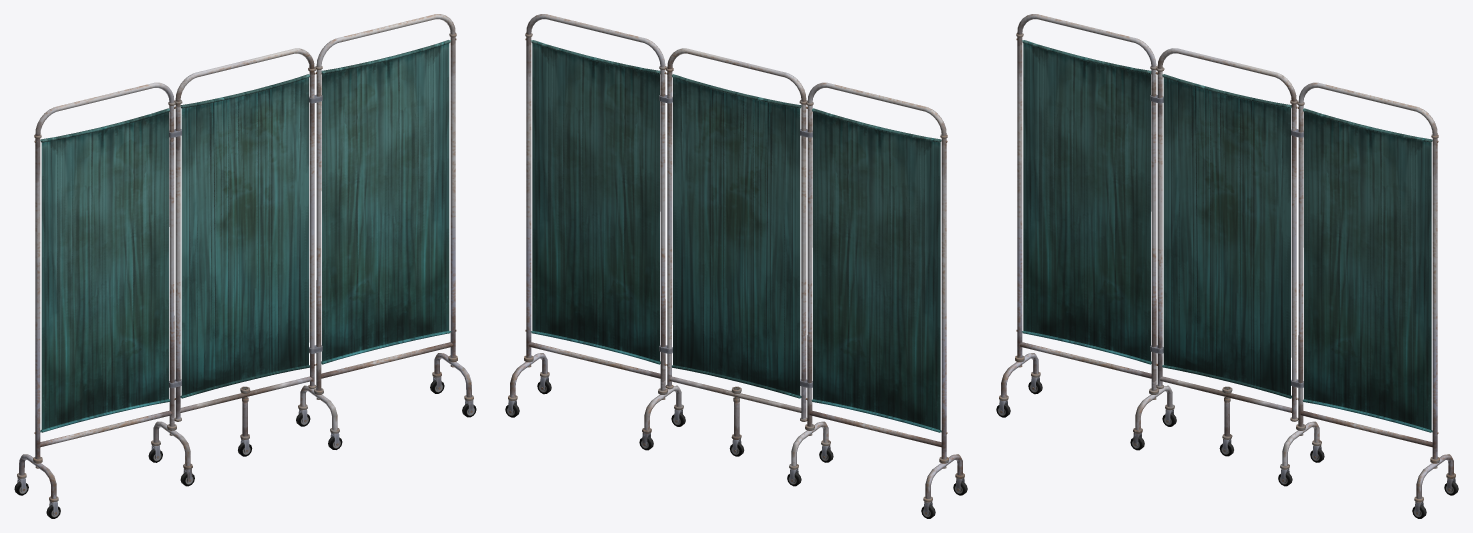
File: HospitalScreen.FBX
3 renders of one model, left to right at view 1: azimuth 30°, elevation 25°; view 2: azimuth 150°, elevation 25°; view 3: azimuth 330°, elevation 25°, orthographic.
Visible parts, largest first — view 1: HospitalScreen015, HospitalScreen017, HospitalScreen016; view 2: HospitalScreen015, HospitalScreen017, HospitalScreen016; view 3: HospitalScreen017, HospitalScreen015, HospitalScreen016.
Part boxes in pixels (x1,y1,x2,y2): HospitalScreen015: (14, 82, 194, 518); HospitalScreen017: (296, 14, 476, 449); HospitalScreen016: (174, 48, 316, 456); HospitalScreen015: (787, 82, 967, 518); HospitalScreen017: (505, 14, 685, 450); HospitalScreen016: (665, 48, 807, 456); HospitalScreen017: (1278, 82, 1458, 518); HospitalScreen015: (996, 14, 1176, 450); HospitalScreen016: (1156, 48, 1298, 456).
Bounding box in the file's own units: 245 × 216 × 36.7.
